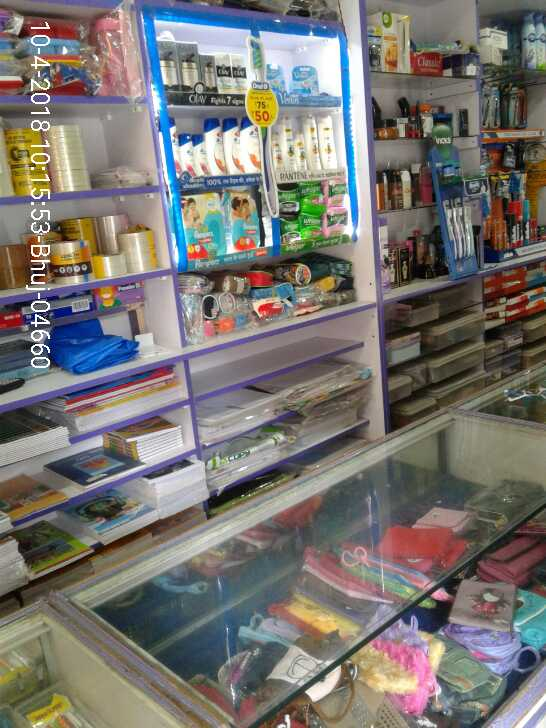venus: (293, 65, 321, 96), (269, 63, 288, 93)
